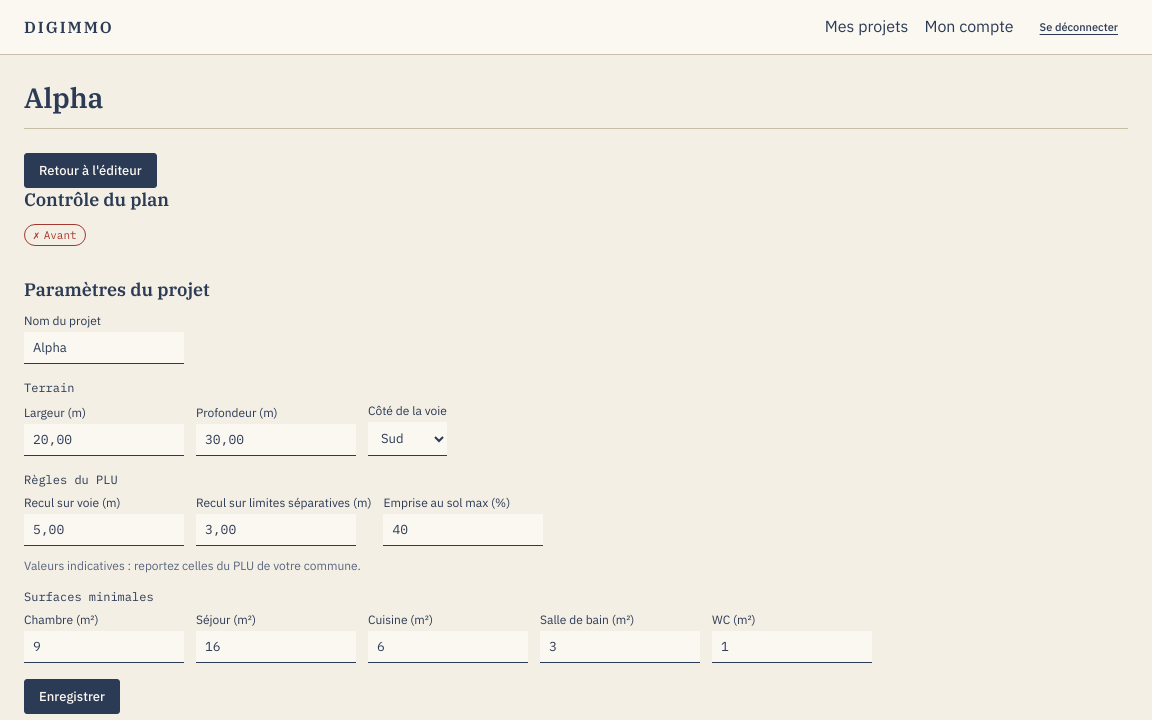
Test case: page paramètres du projet › modifier le recul : PATCH en cm puis liste rechargée
This screenshot has width=1152, height=720.
Expected: the text "Avant" is shown, [44,228,77,242]
Replace the text in the field labelled "Recul sur voie (m)" with "6,5" at [104, 530], box [24,514,184,546]
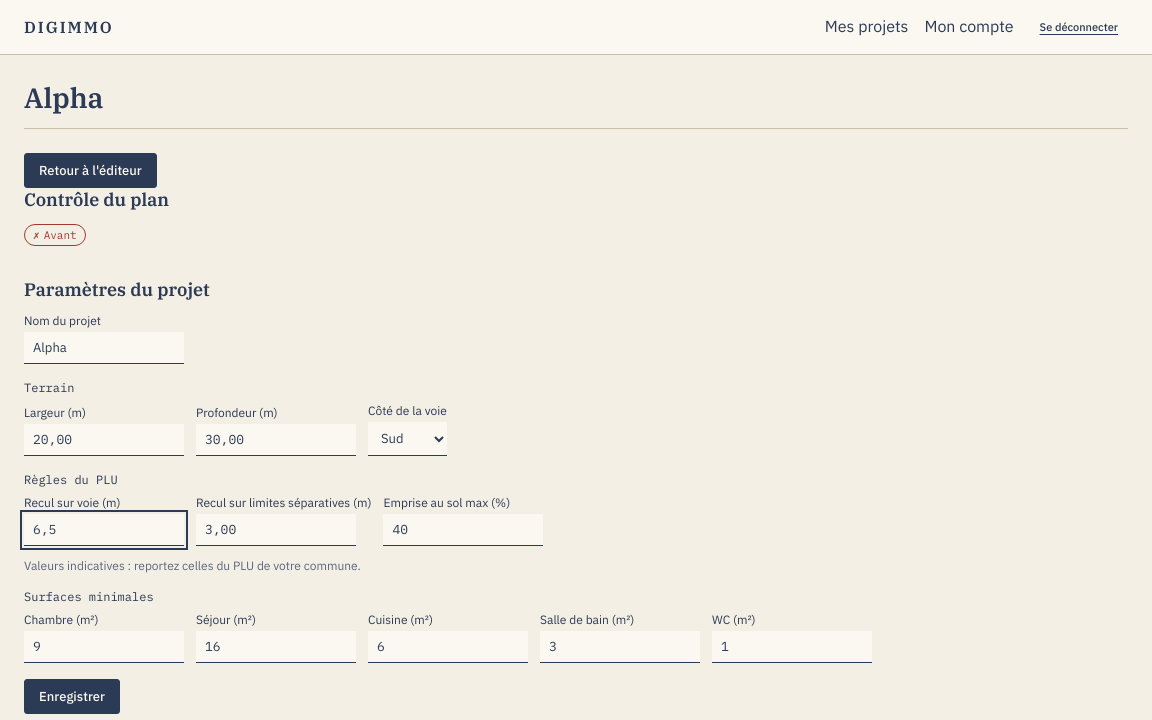
Click the button "Enregistrer".
click(72, 696)  # box [24,679,120,714]
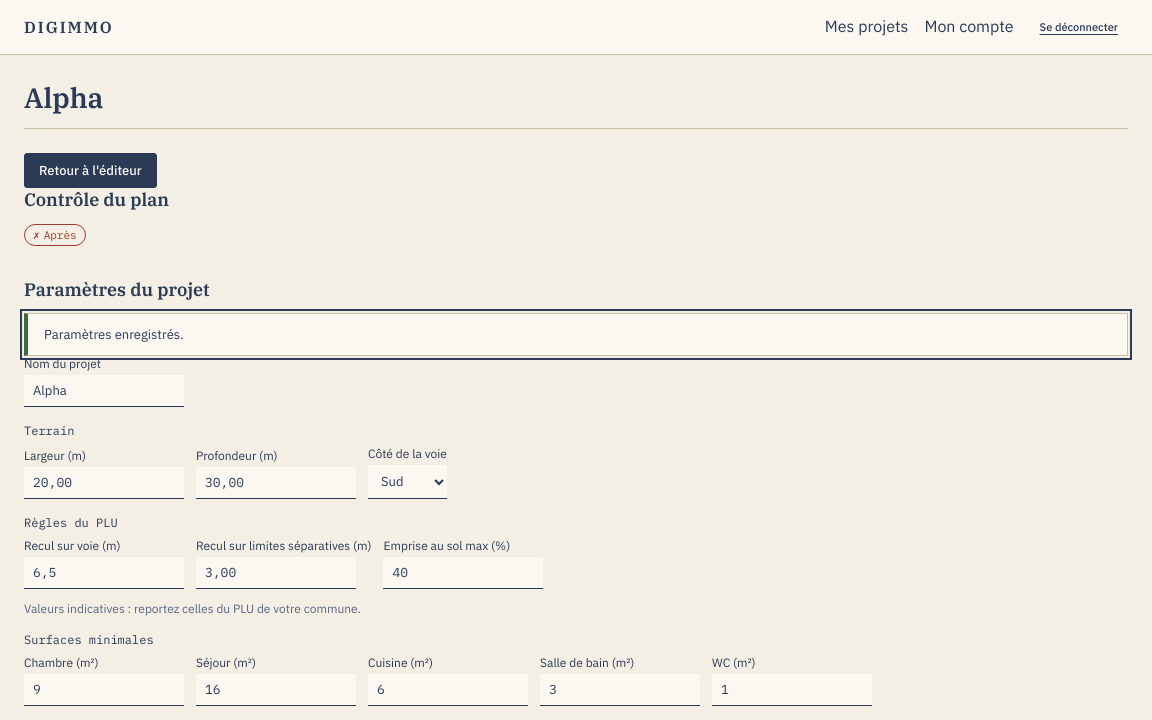
Expected: the text "Paramètres enregistrés." is shown, [44,326,184,343]
Expected: the text "Après" is shown, [44,228,77,242]
